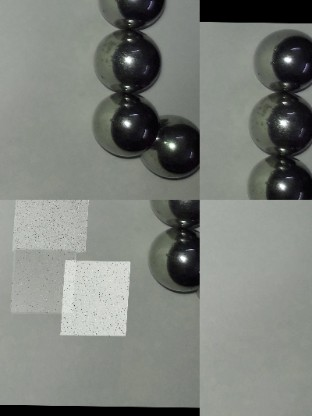ironball: (91, 31, 169, 96), (91, 88, 159, 160), (144, 108, 199, 184), (244, 95, 310, 158), (252, 26, 310, 94), (240, 150, 310, 200), (149, 229, 198, 298), (94, 0, 175, 29), (146, 198, 199, 228)
